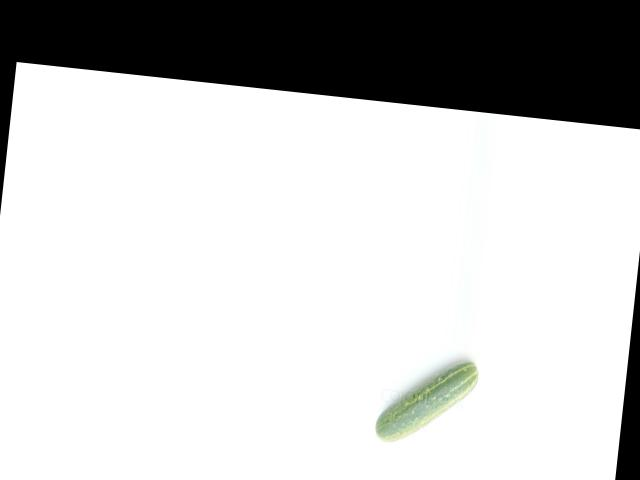cucumber: (374, 351, 481, 451)
